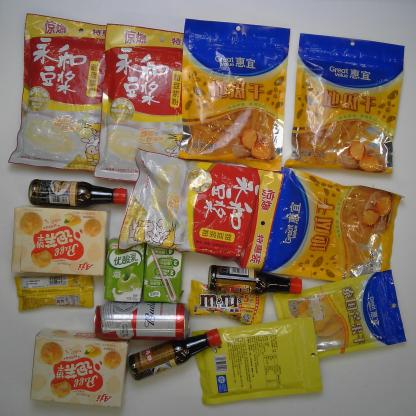Alcohol: (92, 300, 190, 345)
Chocolate: (186, 279, 270, 329), (14, 272, 96, 313)
Dessert: (28, 330, 132, 407), (9, 205, 108, 278)
Dried Fruit: (178, 17, 290, 172), (286, 32, 407, 174), (262, 165, 406, 283), (190, 316, 323, 407), (272, 270, 406, 360)
Instant Drink: (7, 13, 138, 174), (118, 146, 284, 273), (93, 23, 217, 183)
Milk: (102, 233, 146, 305), (143, 240, 183, 308)
Seasoner: (127, 329, 230, 382), (205, 261, 305, 297), (26, 178, 130, 210)
